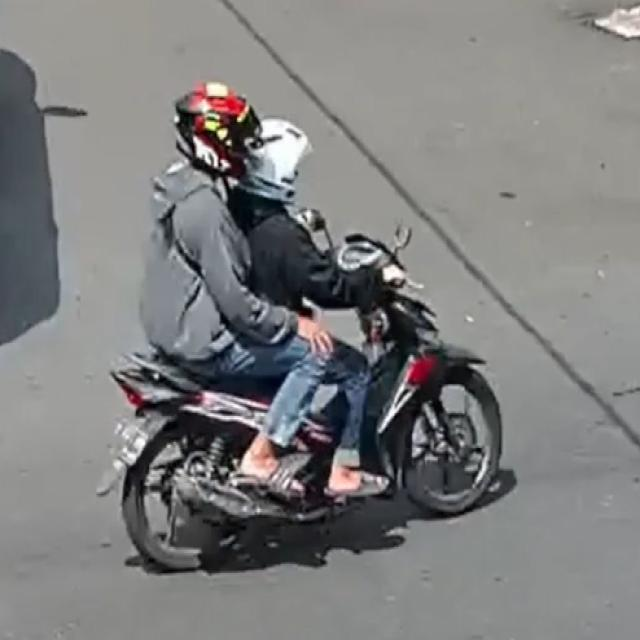helm: (165, 76, 269, 176), (229, 110, 310, 215)
motor: (97, 59, 509, 582)
spion: (286, 198, 342, 258), (378, 205, 422, 276)
